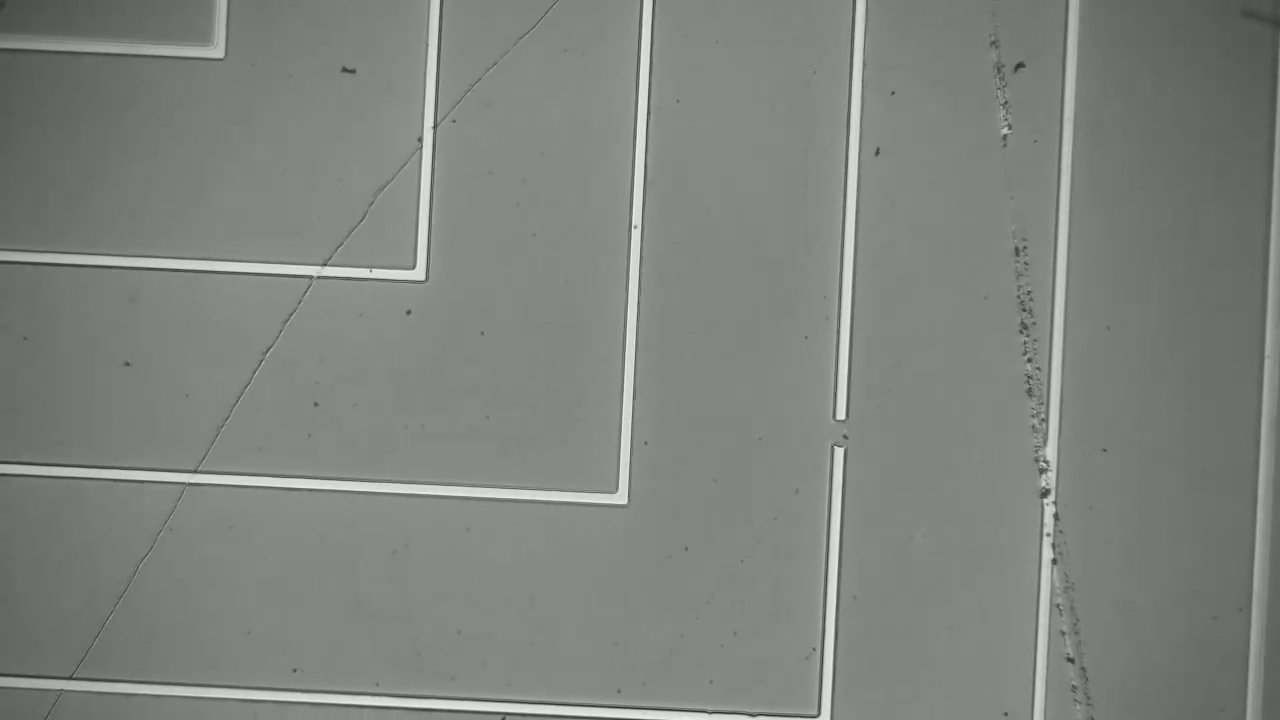open: (810, 393, 869, 466)
scratch: (37, 4, 554, 709), (980, 10, 1101, 713)
